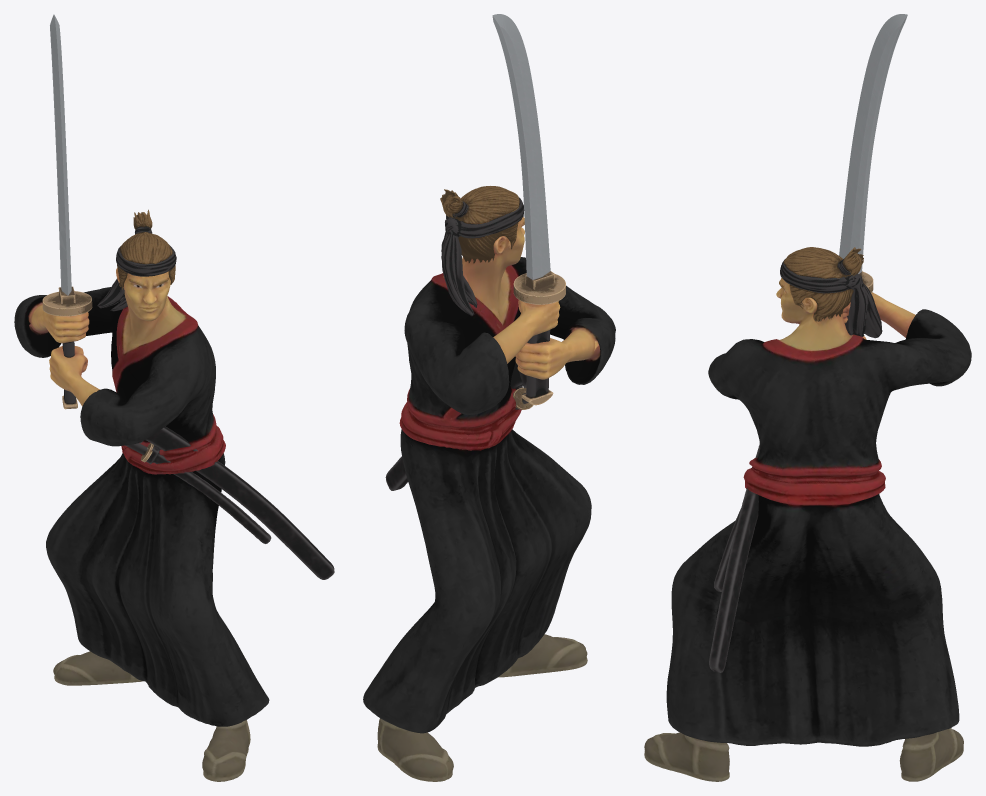
The model's file is MZ4250 - Human Male Ronin.glb.
The picture shows the model from 3 angles, left to right: view 1: azimuth 30°, elevation 25°; view 2: azimuth 150°, elevation 25°; view 3: azimuth 270°, elevation 25°; orthographic projection. The views are drawn at different scales.
Parts seen in each view (by area): view 1: Body.001; view 2: Body.001; view 3: Body.001.
Part boxes in pixels (x1,y1,x2,y2): Body.001: (14,14,334,781); Body.001: (363,14,615,781); Body.001: (644,14,971,781).
Bounding box in the file's own units: 40.6 × 118 × 48.9.
5 materials, 5 textured.
